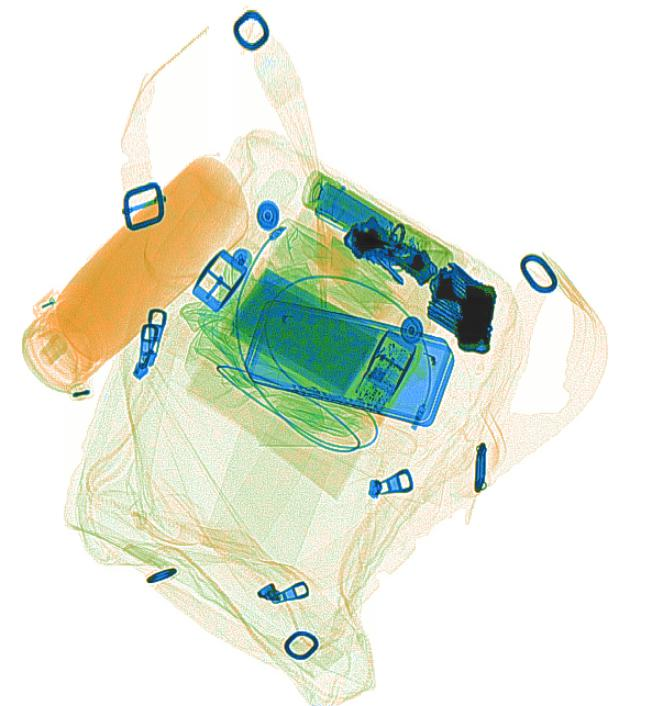battery: (311, 183, 393, 254)
